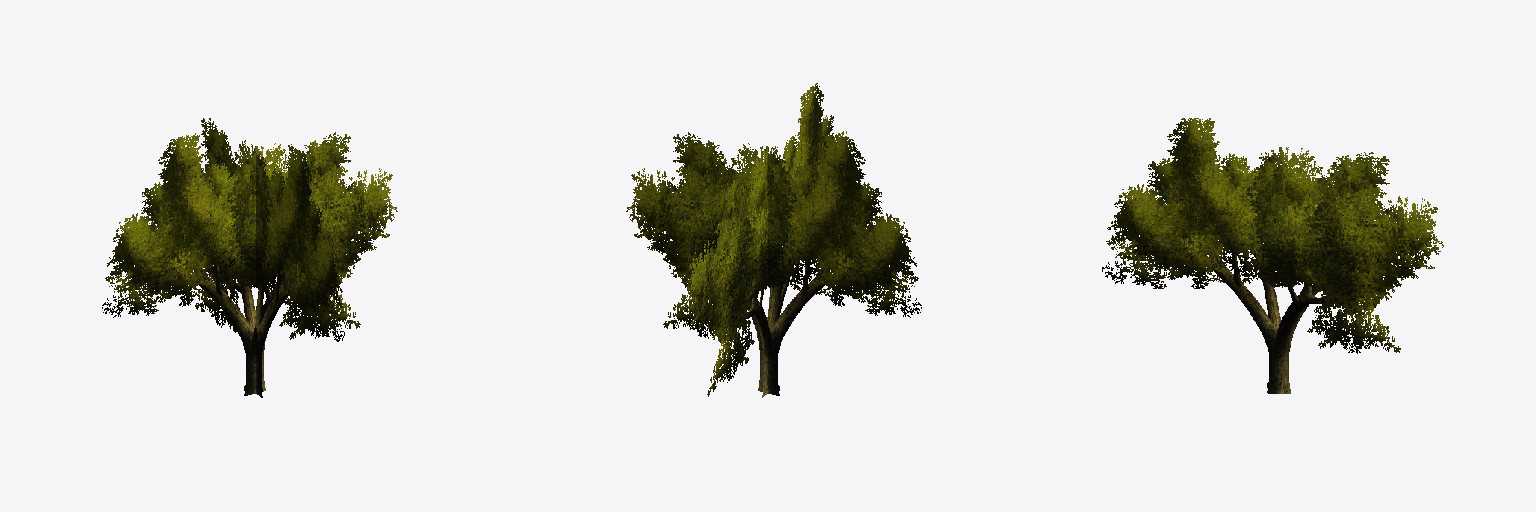
3 renders of one model, left to right at view 1: azimuth 30°, elevation 25°; view 2: azimuth 150°, elevation 25°; view 3: azimuth 270°, elevation 25°, orthographic.
Visible parts, largest first — view 1: CreateFan; view 2: CreateFan; view 3: CreateFan.
Part boxes in pixels (bbox=[...]): CreateFan: bbox=[102, 118, 397, 397]; CreateFan: bbox=[626, 83, 921, 397]; CreateFan: bbox=[1102, 118, 1443, 393].
Size of the model in its own units: 29.69 by 25 by 29.69.
Materials: 1 (1 with a texture image).